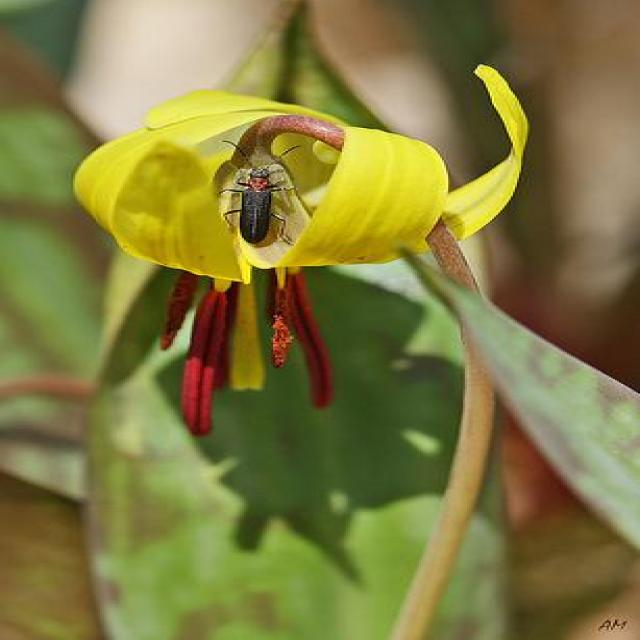BlisterBeetle-Adult-: (202, 136, 310, 249)
